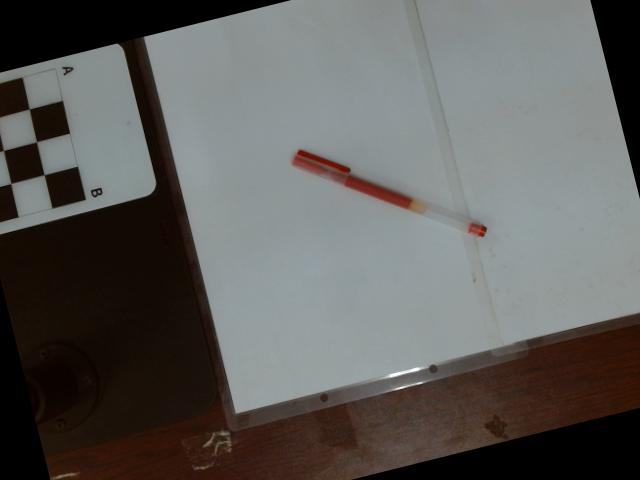PEN: (289, 147, 488, 241)
